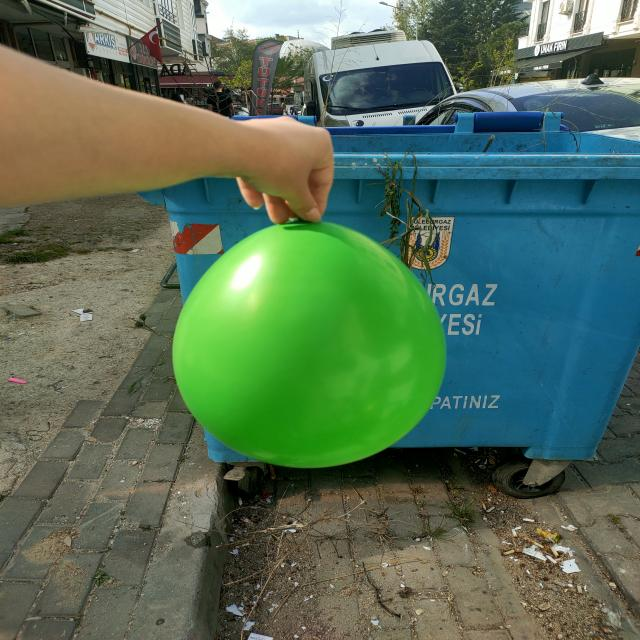green: (174, 225, 449, 468)
